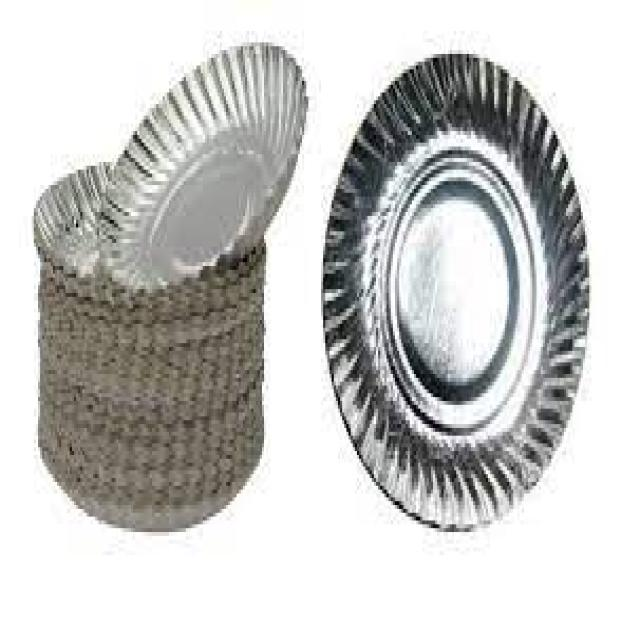PaperCardboard: (319, 43, 592, 524), (33, 157, 270, 524), (91, 49, 303, 278)
